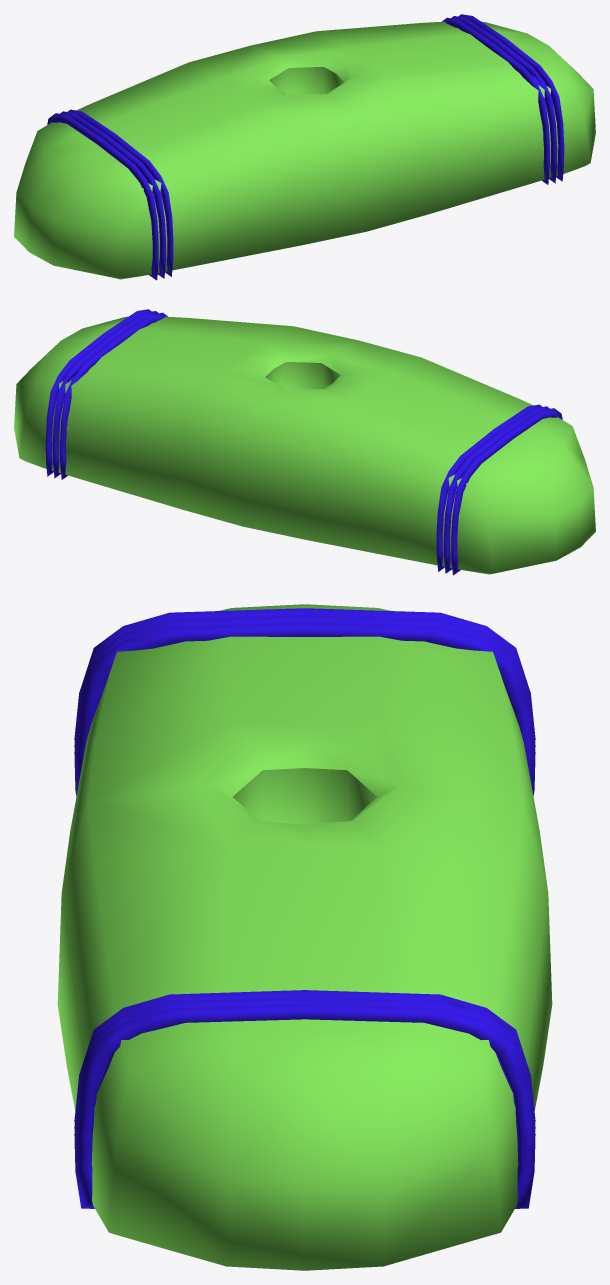
The model's file is SM_Tipairua_SailSupport2.fbx.
The picture shows the model from 3 angles, top to bottom: view 1: azimuth 30°, elevation 25°; view 2: azimuth 150°, elevation 25°; view 3: azimuth 270°, elevation 25°; orthographic projection. The views are drawn at different scales.
Parts seen in each view (by area): view 1: SM_TIpairua_Sails_Base; view 2: SM_TIpairua_Sails_Base; view 3: SM_TIpairua_Sails_Base.
Boxes of the visible parts, bbox=[...] form: SM_TIpairua_Sails_Base: bbox=[14, 14, 595, 280]; SM_TIpairua_Sails_Base: bbox=[14, 309, 595, 575]; SM_TIpairua_Sails_Base: bbox=[57, 604, 552, 1270].
Bounding box in the file's own units: 62.4 × 161 × 32.12.
